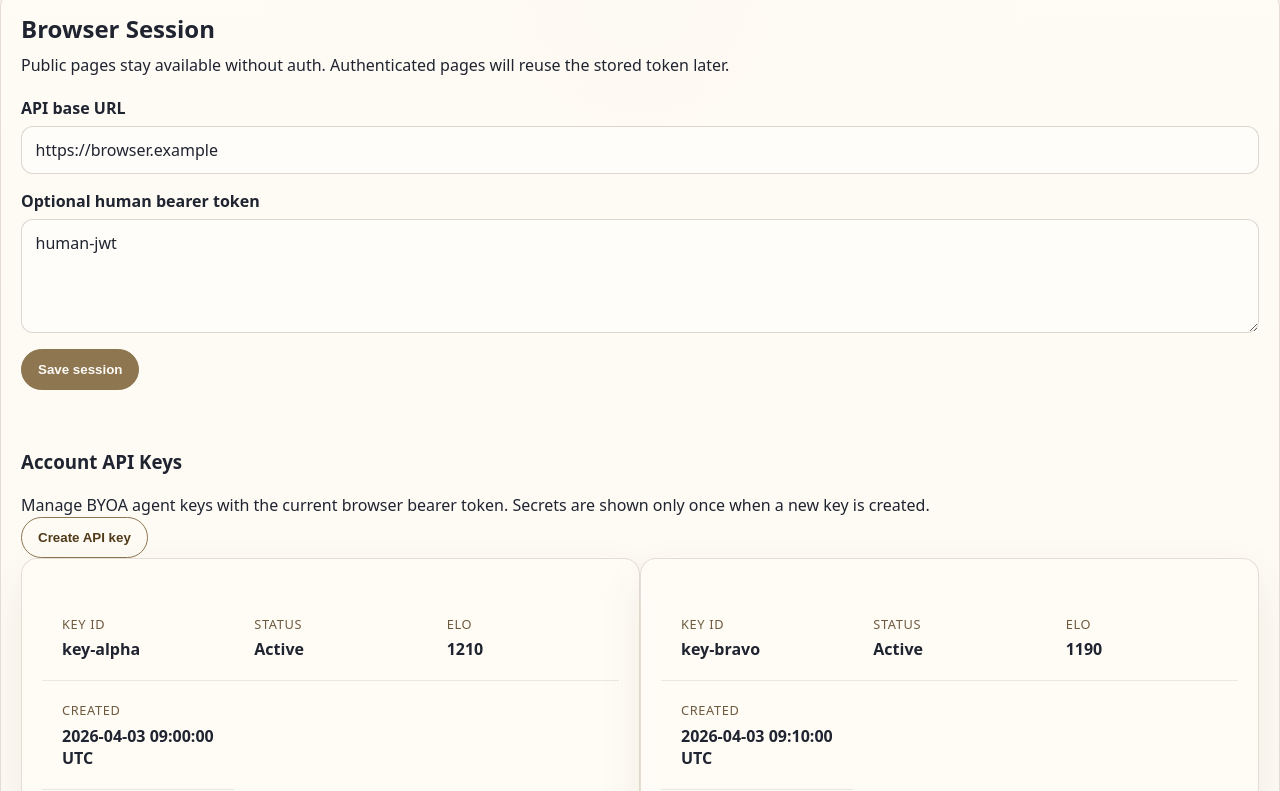
Test case: SessionConfigPanel › revokes only the targeted key row while preserving other rows and panel content
Expected: the text "key-alpha" is shown, [62, 638, 140, 660]
Expected: the text "key-bravo" is shown, [681, 638, 760, 660]
Replace the text in the field labelled "API base URL" with "https://browser.example/" at x=640, y=150, box [21, 126, 1259, 174]
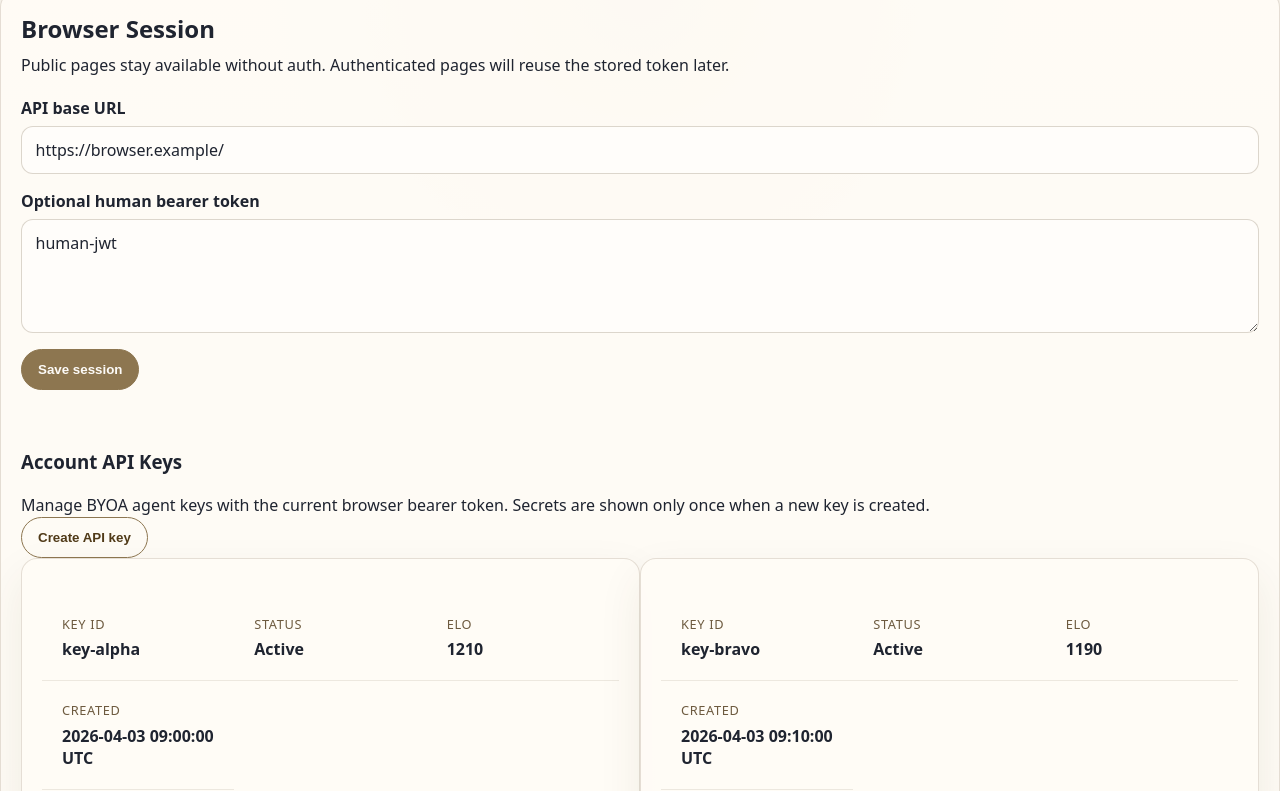
Click the button "Save session" at x=80, y=370, box [21, 349, 140, 390]
(page scrolled)
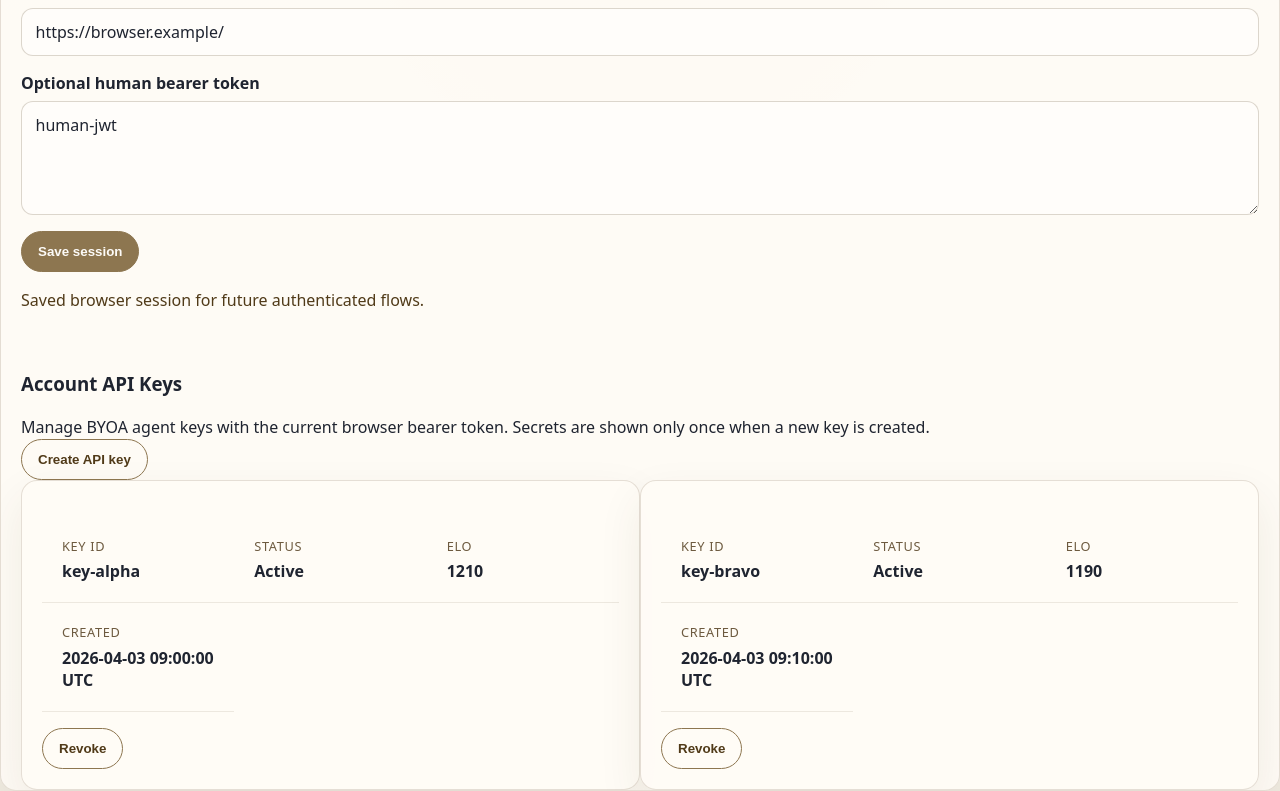
Now the text "Saved browser session for future authenticated flows." is shown, box [21, 289, 424, 311]
Click the button with aria-label "revoke key-alpha" at x=83, y=748, box [42, 728, 123, 769]
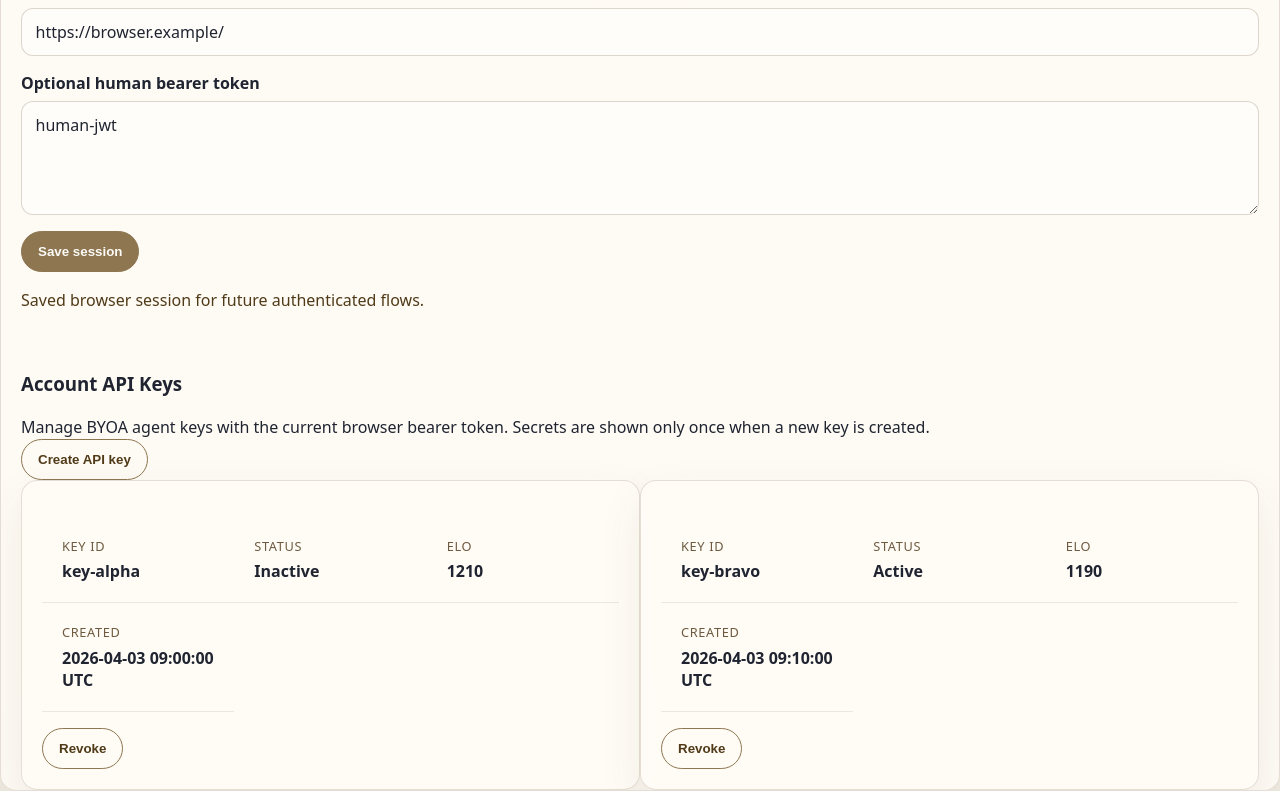
Expected: the 1st list item is shown, [21, 480, 640, 790]
Now the text "Saved browser session for future authenticated flows." is shown, box [21, 289, 424, 311]
Now the text "Inactive" is shown, box [254, 560, 319, 582]
